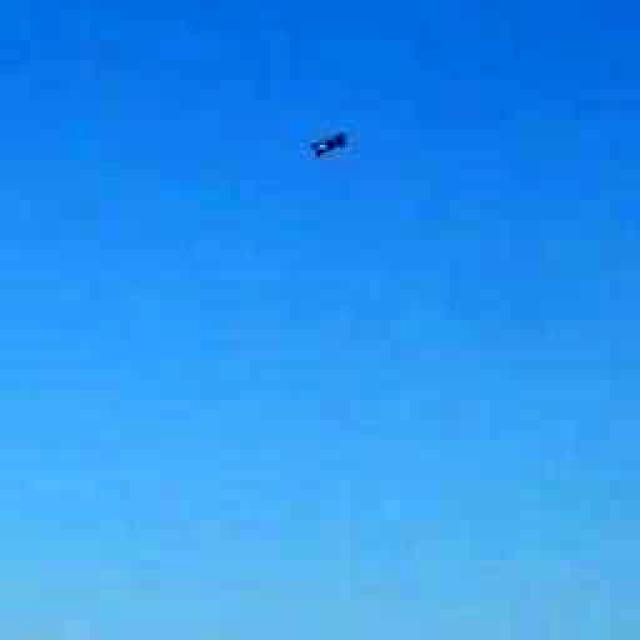bird: (281, 111, 369, 169)
